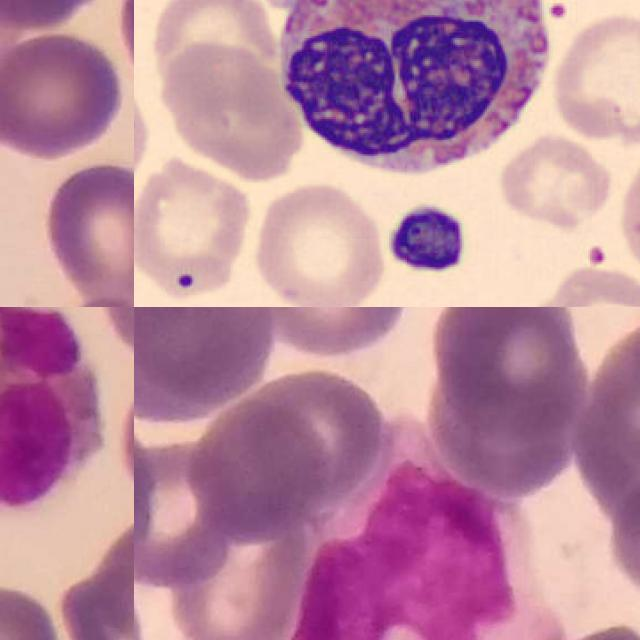Eosinophil: (266, 0, 566, 188), (0, 307, 111, 512)
Monocyte: (288, 448, 565, 640)
Platelets: (380, 198, 471, 278)
RBC: (155, 38, 309, 181), (248, 175, 389, 307), (134, 152, 254, 300), (549, 6, 640, 145), (496, 131, 613, 234), (515, 262, 640, 307), (614, 133, 640, 295), (134, 61, 152, 225)
